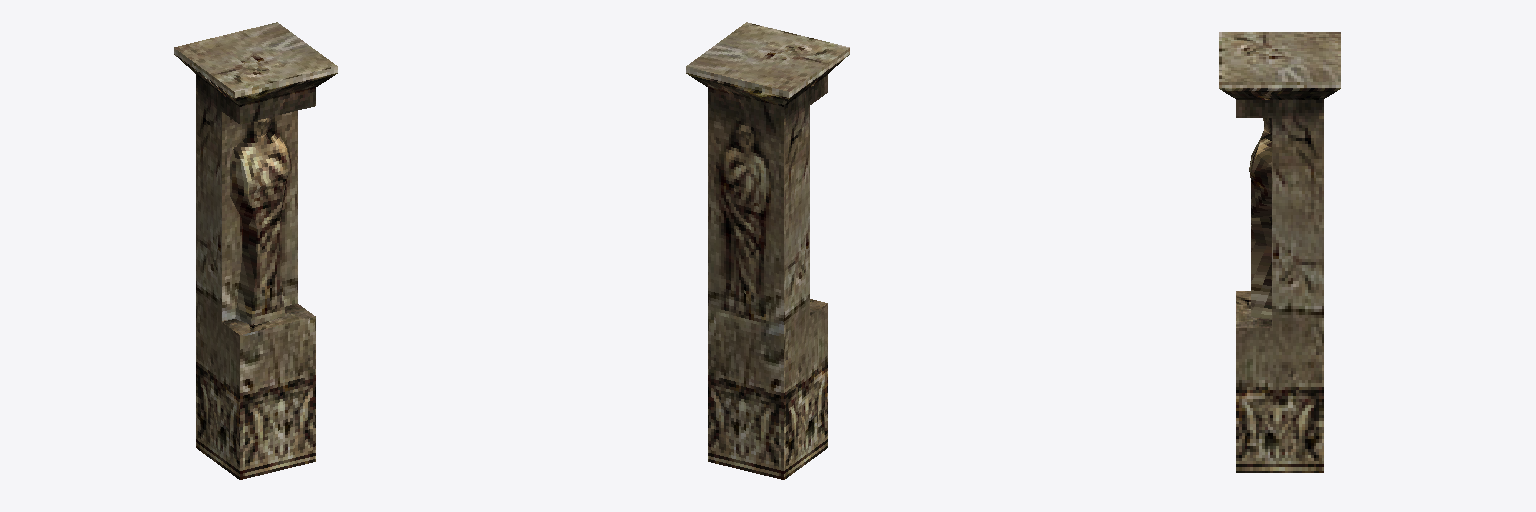
3 views of the same model, side by side, from view 1: azimuth 30°, elevation 25°; view 2: azimuth 150°, elevation 25°; view 3: azimuth 270°, elevation 25° (orthographic).
Parts seen in each view (by area): view 1: Mesh_0; view 2: Mesh_0; view 3: Mesh_0.
Boxes of the visible parts, x1=… form: Mesh_0: x1=174, y1=22, x2=337, y2=479; Mesh_0: x1=686, y1=22, x2=849, y2=479; Mesh_0: x1=1219, y1=32, x2=1340, y2=472.
Size of the model in its own units: 1.09 by 4 by 1.11.
1 materials, 1 textured.